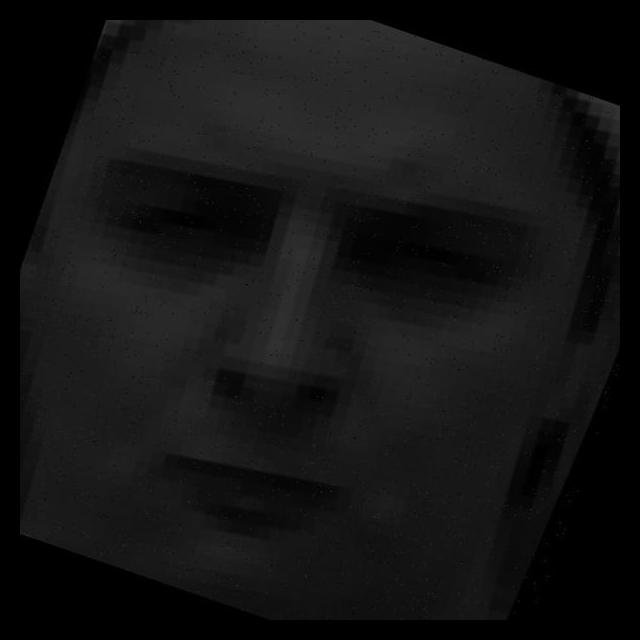Disgust: (46, 45, 581, 586)
